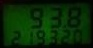-: (62, 22, 66, 27)
0: (73, 28, 83, 44)
1: (28, 29, 33, 46)
2: (60, 28, 70, 44), (11, 29, 21, 44)
3: (48, 5, 61, 27), (47, 28, 57, 45)
8: (67, 5, 81, 27)
9: (29, 6, 42, 28), (35, 28, 45, 45)
